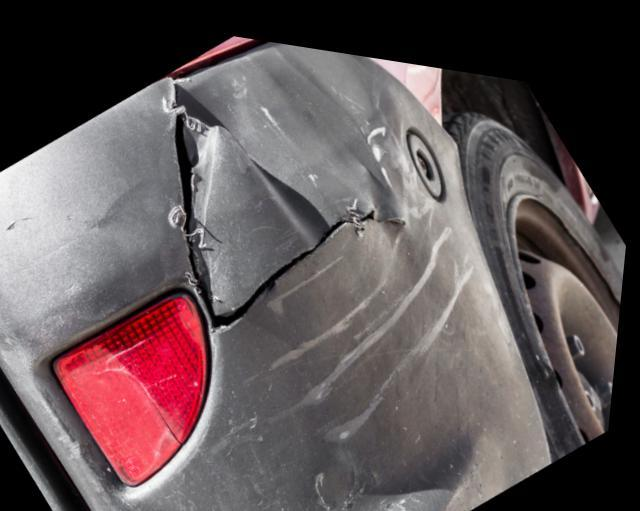crack: (173, 73, 412, 325), (151, 379, 191, 437)
dent: (221, 36, 385, 207)
scratch: (258, 112, 486, 441), (366, 475, 431, 511)
